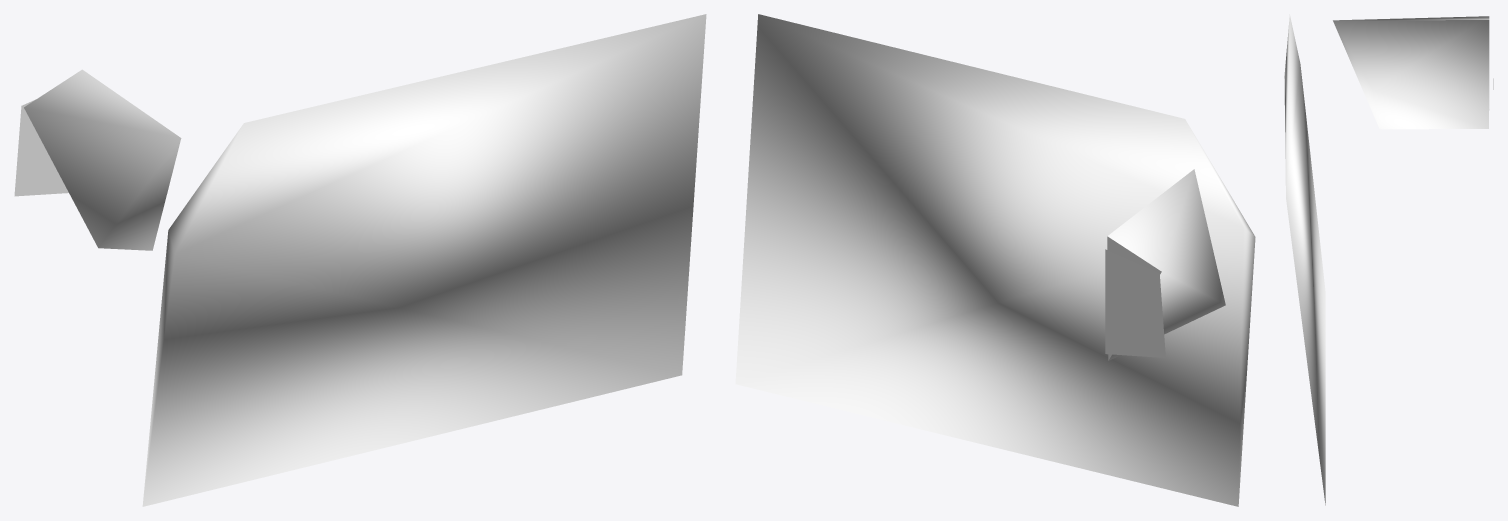
3 renders of one model, left to right at view 1: azimuth 30°, elevation 25°; view 2: azimuth 150°, elevation 25°; view 3: azimuth 270°, elevation 25°, orthographic. The views are drawn at different scales.
Size of the model in its own units: 0.2355 by 0.1517 by 0.0927.
1 material, 1 textured.
